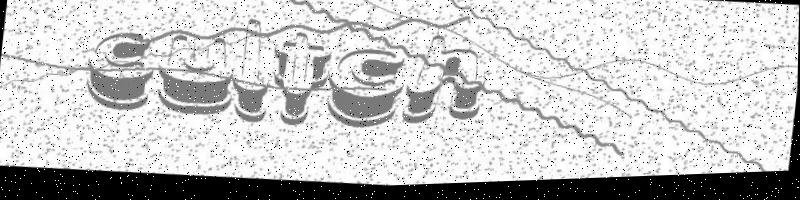c: (324, 46, 408, 135), (81, 28, 159, 116)
h: (401, 35, 489, 133)
l: (230, 17, 278, 127)
t: (266, 31, 333, 132)
u: (153, 32, 239, 121)
